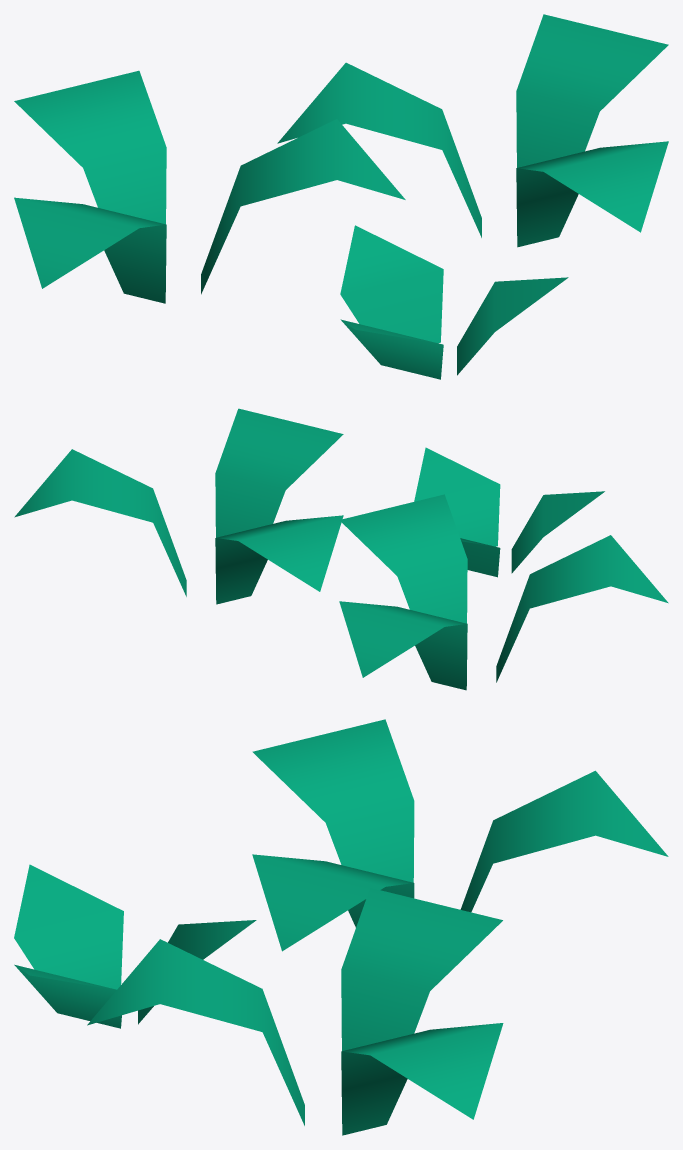
Rendered from LeafPlant.fbx.
3 renders of one model, top to bottom at view 1: azimuth 30°, elevation 25°; view 2: azimuth 150°, elevation 25°; view 3: azimuth 270°, elevation 25°, orthographic. The views are drawn at different scales.
Parts seen in each view (by area): view 1: mergedBlocks; view 2: mergedBlocks; view 3: mergedBlocks.
Boxes of the visible parts, left/top/right/bottom form: mergedBlocks: left=14, top=14, right=668, bottom=379; mergedBlocks: left=14, top=408, right=668, bottom=690; mergedBlocks: left=14, top=719, right=668, bottom=1135.
Bounding box in the file's own units: 6.36 × 1.2 × 4.93.
